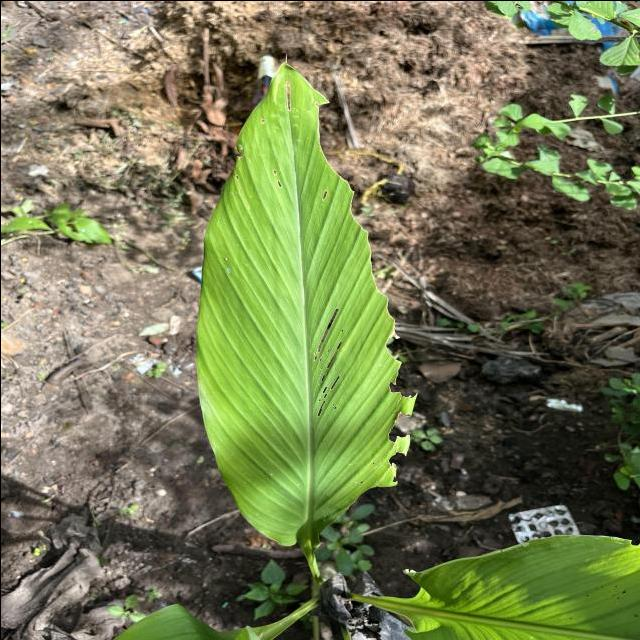Curcuma longa: (192, 58, 420, 553)
